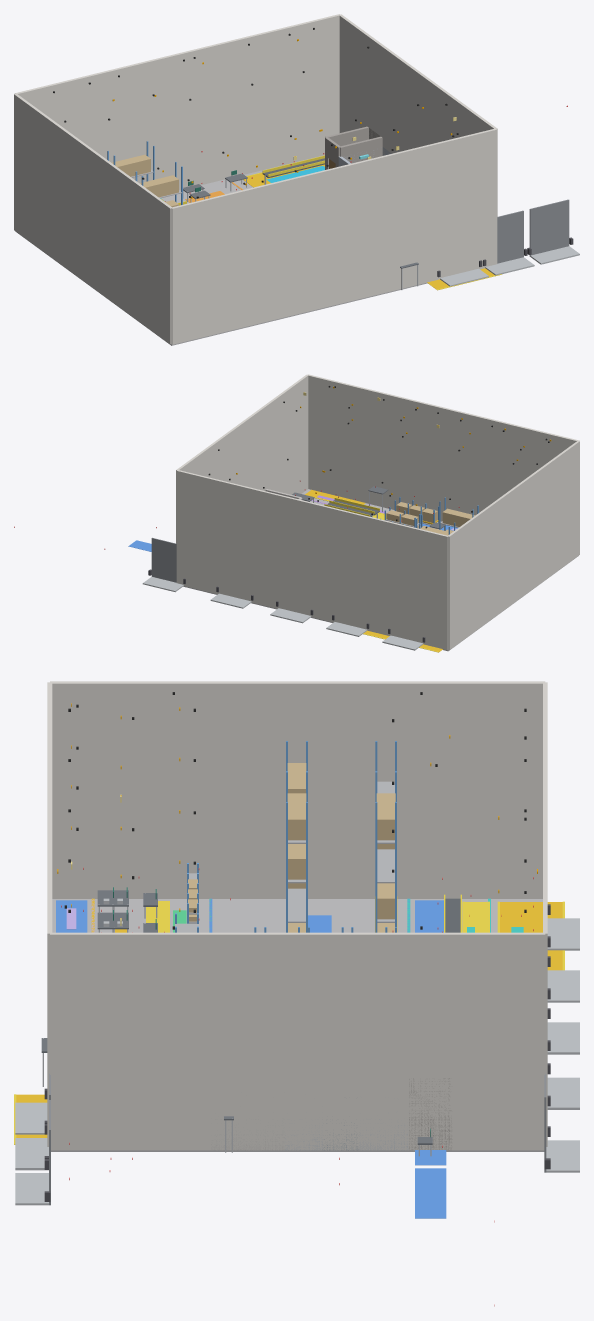
Rendered from building.gltf.
3 views of the same model, one above another, from view 1: azimuth 30°, elevation 25°; view 2: azimuth 150°, elevation 25°; view 3: azimuth 270°, elevation 25° (orthographic). The views are drawn at different scales.
Parts seen in each view (by area): view 1: WALL|F0|envelope|wS_seg0, WALL|F0|envelope|wN_seg0, WALL|F0|envelope|wW_seg0, WALL|F0|envelope|wE_seg0, DOOR|F0|outbound_docks|dock0_2, DOOR|F0|outbound_docks|dock0_1, FLOOR|F0|slab|0, WALL|F0|maintenance|wS_seg0, FURN|F0|bulk_pallet_A|goods0r1L3s1, FURN|F0|bulk_pallet_A|goods0r0L3s1, FLOOR|F0|outbound_docks|leveler0_2, FLOOR|F0|outbound_docks|leveler0_1 (+2 smaller); view 2: WALL|F0|envelope|wN_seg0, WALL|F0|envelope|wS_seg0, WALL|F0|envelope|wW_seg0, WALL|F0|envelope|wE_seg0, DOOR|F0|crossdock|dock0_1, FURN|F0|bulk_pallet_A|goods0r1L3s1; view 3: WALL|F0|envelope|wE_seg0, WALL|F0|envelope|wW_seg0, FLOOR|F0|slab|0, WALL|F0|envelope|wS_seg0, WALL|F0|envelope|wN_seg0, SAFETY|F0|inbound_docks|lane0, SAFETY|F0|inbound_staging|lane5, FLOOR|F0|outbound_docks|leveler0_2, FLOOR|F0|crossdock|leveler0_1, FLOOR|F0|inbound_docks|leveler0_1, FLOOR|F0|inbound_docks|leveler0_2, FLOOR|F0|crossdock|leveler0_0 (+8 smaller).
Boxes of the visible parts, bbox=[...] form: WALL|F0|envelope|wS_seg0: bbox=[171, 128, 497, 344]; WALL|F0|envelope|wN_seg0: bbox=[14, 14, 340, 190]; WALL|F0|envelope|wW_seg0: bbox=[14, 93, 171, 344]; WALL|F0|envelope|wE_seg0: bbox=[339, 14, 497, 216]; DOOR|F0|outbound_docks|dock0_2: bbox=[529, 199, 569, 256]; DOOR|F0|outbound_docks|dock0_1: bbox=[497, 210, 523, 263]; FLOOR|F0|slab|0: bbox=[15, 155, 427, 345]; WALL|F0|maintenance|wS_seg0: bbox=[339, 136, 382, 163]; FURN|F0|bulk_pallet_A|goods0r1L3s1: bbox=[140, 175, 178, 197]; FURN|F0|bulk_pallet_A|goods0r0L3s1: bbox=[111, 154, 150, 176]; FLOOR|F0|outbound_docks|leveler0_2: bbox=[530, 246, 579, 264]; FLOOR|F0|outbound_docks|leveler0_1: bbox=[485, 257, 534, 275]; WALL|F0|envelope|wN_seg0: bbox=[176, 470, 448, 650]; WALL|F0|envelope|wS_seg0: bbox=[307, 374, 579, 521]; WALL|F0|envelope|wW_seg0: bbox=[448, 441, 579, 649]; WALL|F0|envelope|wE_seg0: bbox=[176, 374, 308, 543]; DOOR|F0|crossdock|dock0_1: bbox=[151, 537, 176, 582]; FURN|F0|bulk_pallet_A|goods0r1L3s1: bbox=[442, 508, 475, 526]; WALL|F0|envelope|wE_seg0: bbox=[50, 932, 545, 1150]; WALL|F0|envelope|wW_seg0: bbox=[50, 681, 545, 898]; FLOOR|F0|slab|0: bbox=[51, 899, 544, 1151]; WALL|F0|envelope|wS_seg0: bbox=[47, 682, 52, 1146]; WALL|F0|envelope|wN_seg0: bbox=[543, 682, 547, 1146]; SAFETY|F0|inbound_docks|lane0: bbox=[500, 902, 562, 970]; SAFETY|F0|inbound_staging|lane5: bbox=[415, 1168, 446, 1218]; FLOOR|F0|outbound_docks|leveler0_2: bbox=[15, 1173, 48, 1205]; FLOOR|F0|crossdock|leveler0_1: bbox=[546, 1140, 579, 1172]; FLOOR|F0|inbound_docks|leveler0_1: bbox=[547, 970, 579, 1002]; FLOOR|F0|inbound_docks|leveler0_2: bbox=[547, 1022, 579, 1054]; FLOOR|F0|crossdock|leveler0_0: bbox=[547, 1077, 579, 1109].
Size of the model in its own units: 49.67 by 12.15 by 28.56.
